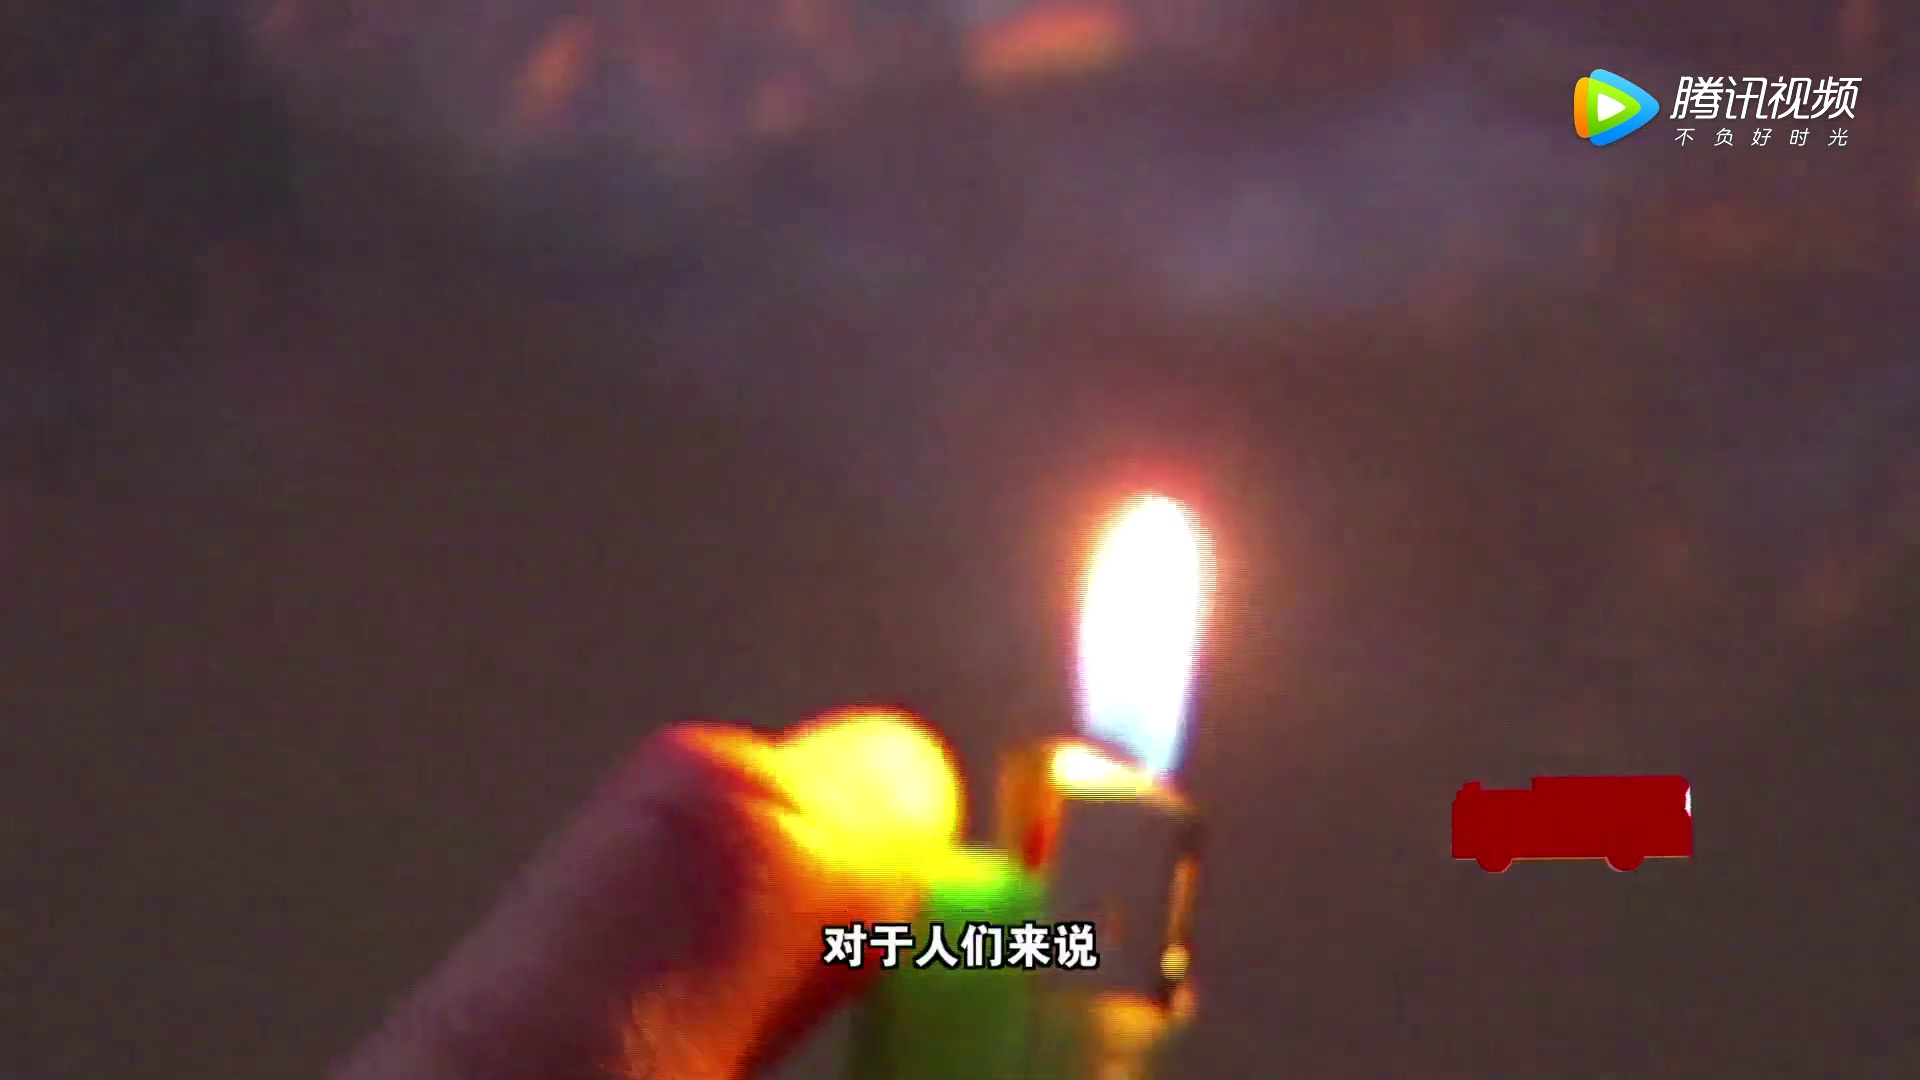fire: (1015, 483, 1247, 800)
